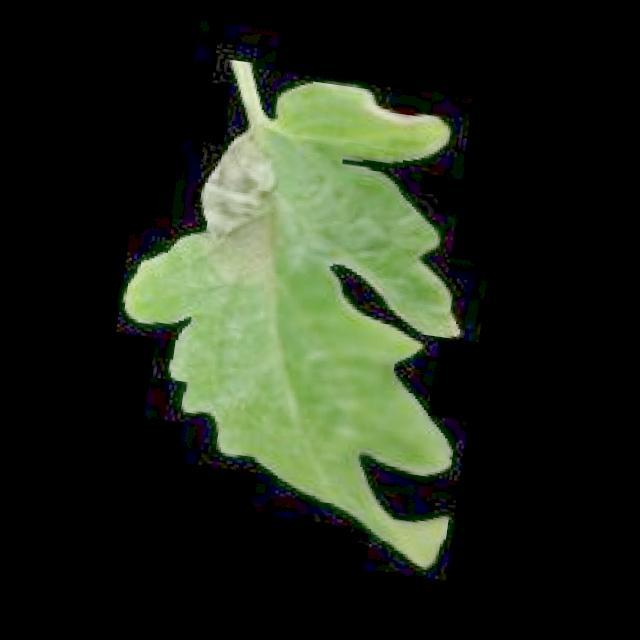Tomato late blight leaf: (93, 59, 511, 574)
